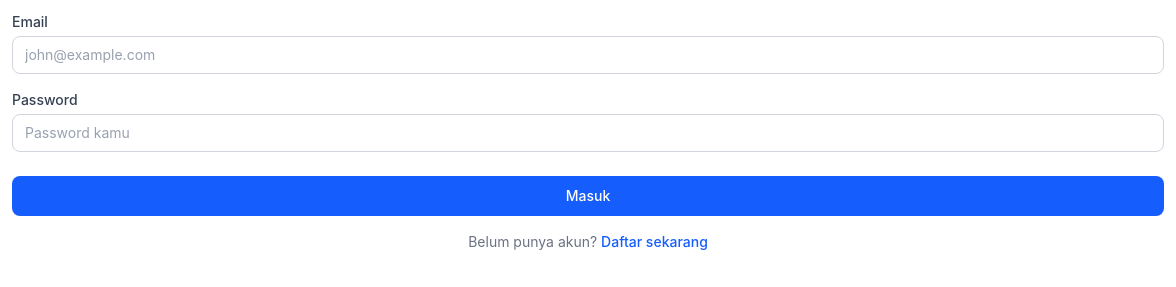
Test case: LoginForm component › form validation › should show email format error when email is invalid
The image size is (1176, 287).
Step 1. Type "bukan-email-valid" into the field labelled "Email" → point(588, 55), box [12, 36, 1164, 74]
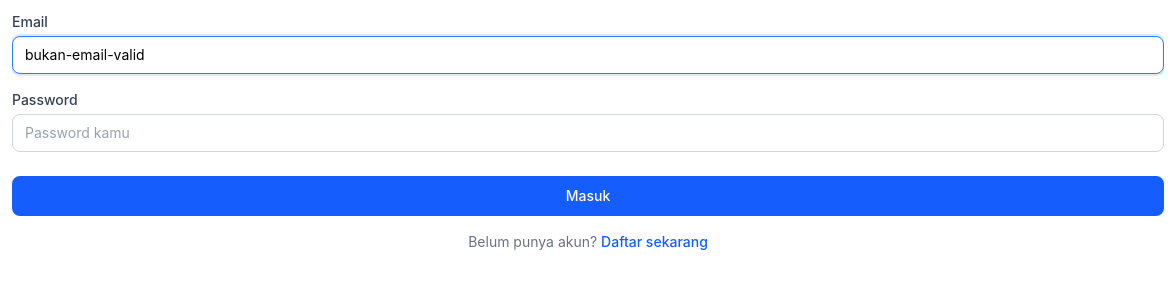
Step 2. Type "password123" into the password field labelled "Password" → point(588, 133), box [12, 114, 1164, 152]
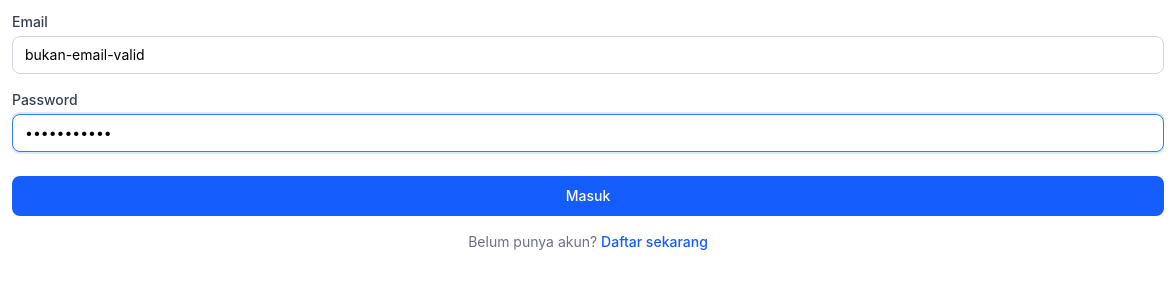
Step 3. Click the button "Masuk" → point(588, 196), box [12, 176, 1164, 216]
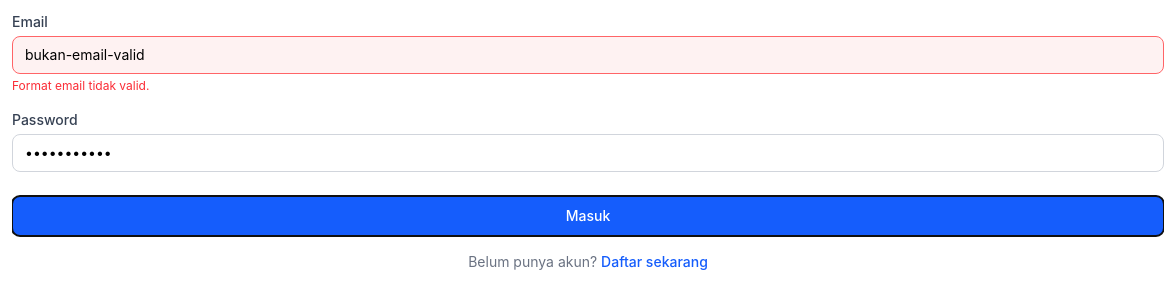
Check: the text "Format email tidak valid." is shown, box [12, 78, 149, 93]
